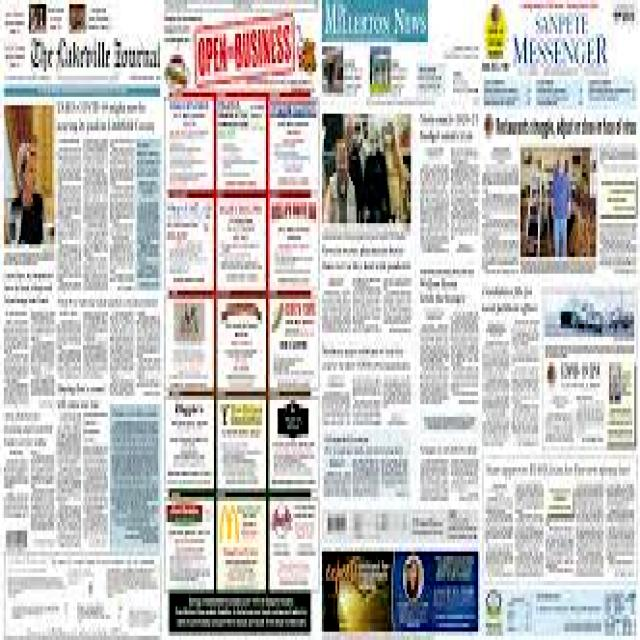Paper: (0, 0, 161, 640), (320, 0, 480, 640), (480, 0, 640, 640), (161, 0, 318, 640)
